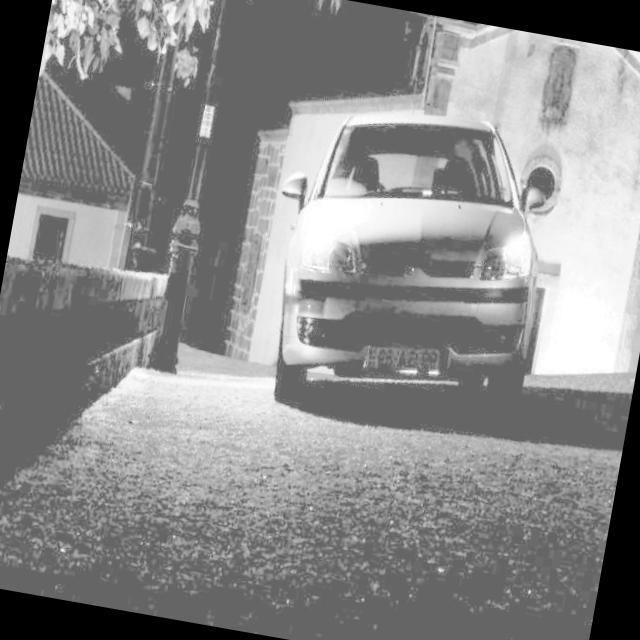Car: (253, 78, 580, 459)
